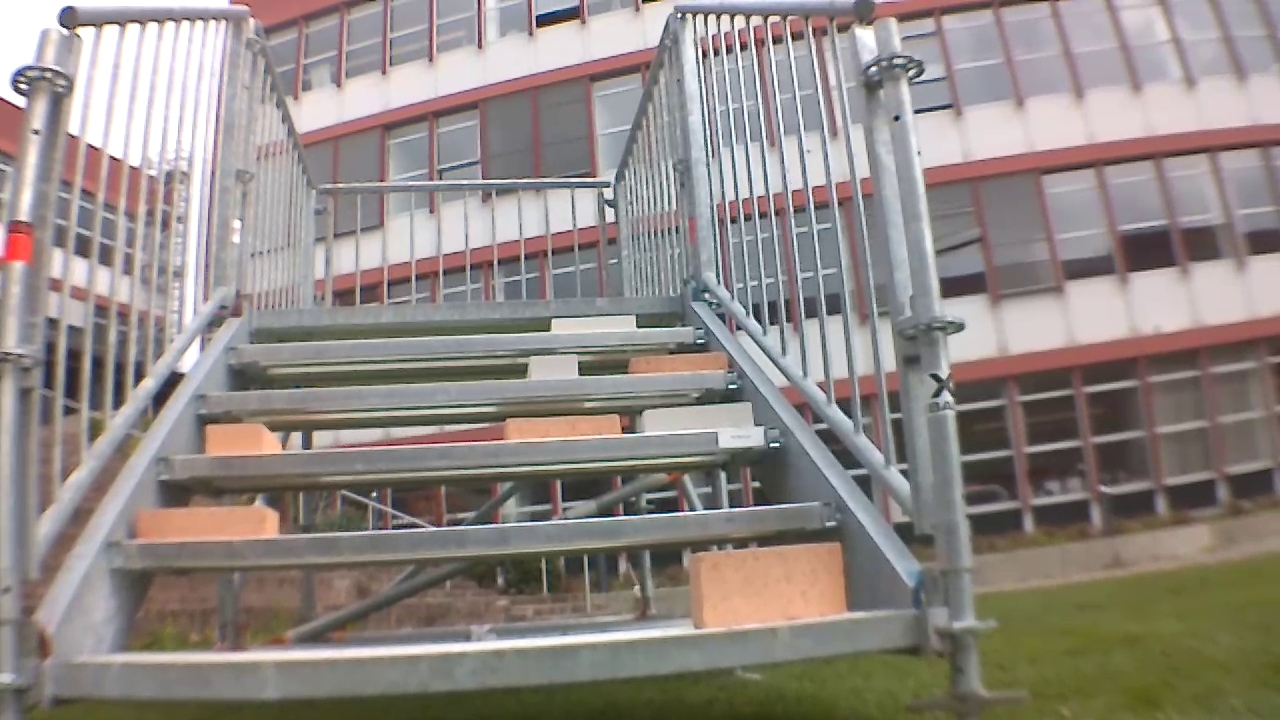brick: (687, 541, 849, 631), (123, 504, 286, 543), (636, 397, 763, 438), (625, 348, 736, 375), (548, 308, 639, 339), (205, 423, 282, 456), (505, 417, 614, 440), (518, 351, 579, 379)
edge: (36, 606, 932, 710), (114, 498, 844, 579), (149, 427, 784, 486), (194, 370, 748, 417), (252, 287, 683, 329), (232, 341, 720, 353)
stairs: (15, 0, 979, 713)
steps: (42, 295, 921, 702)
